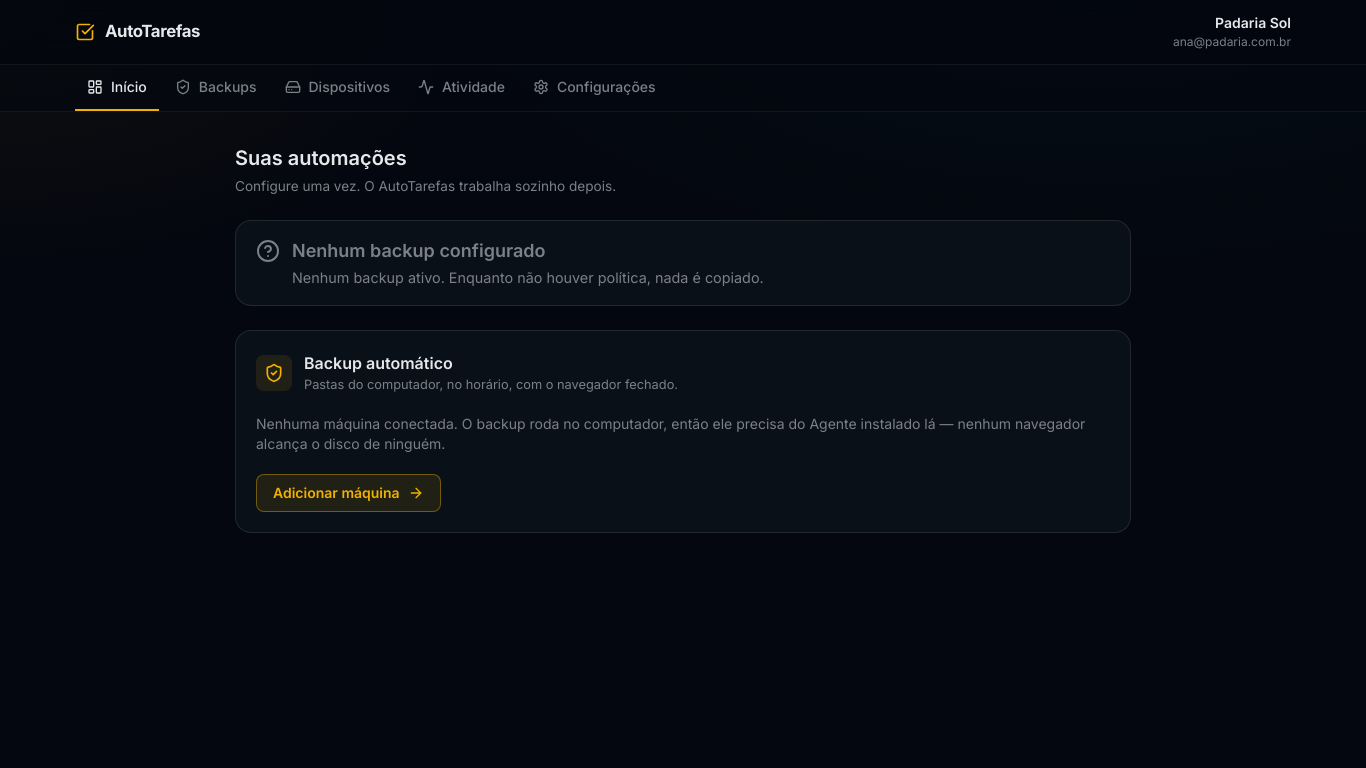
Test: navegação › Dispositivos leva direto ao pareamento, sem rolar tela nenhuma
The image size is (1366, 768).
Click the link "Dispositivos": coordinates (337, 86) [284,78,390,95]
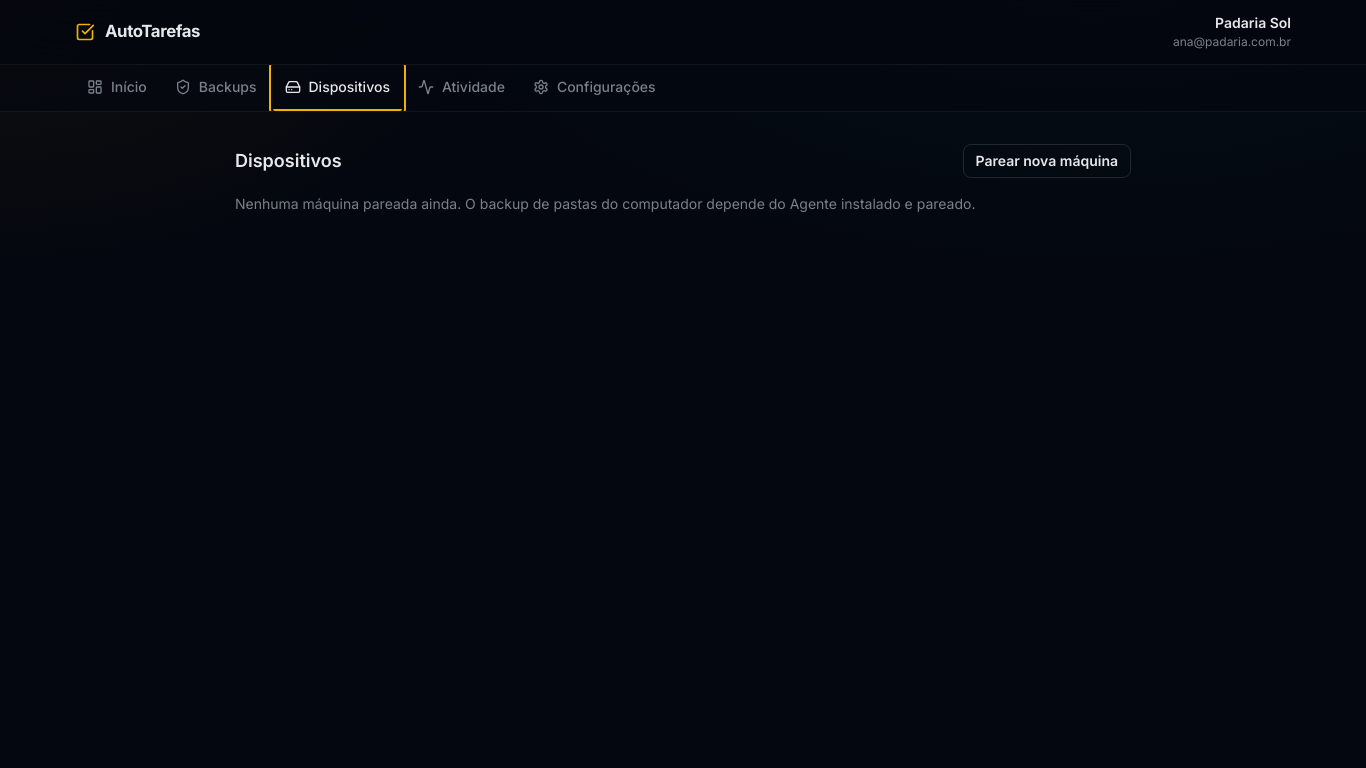
Result: the button "Parear nova máquina" is shown at [962,144,1131,178]
